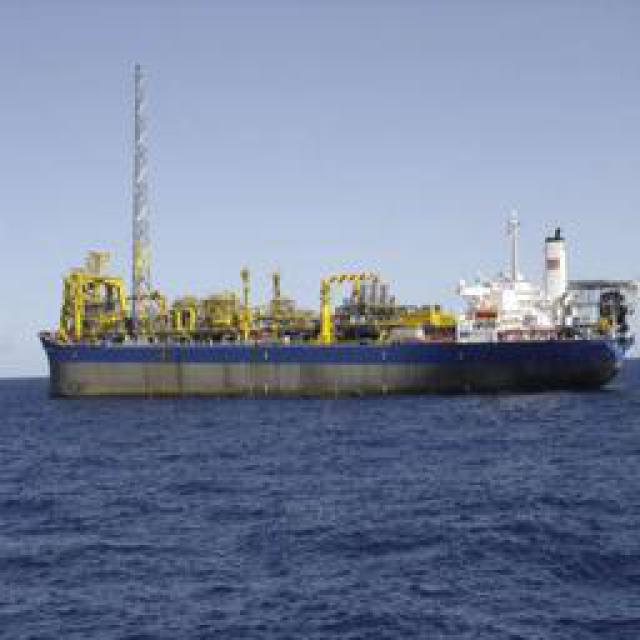Ship: (42, 231, 635, 399)
